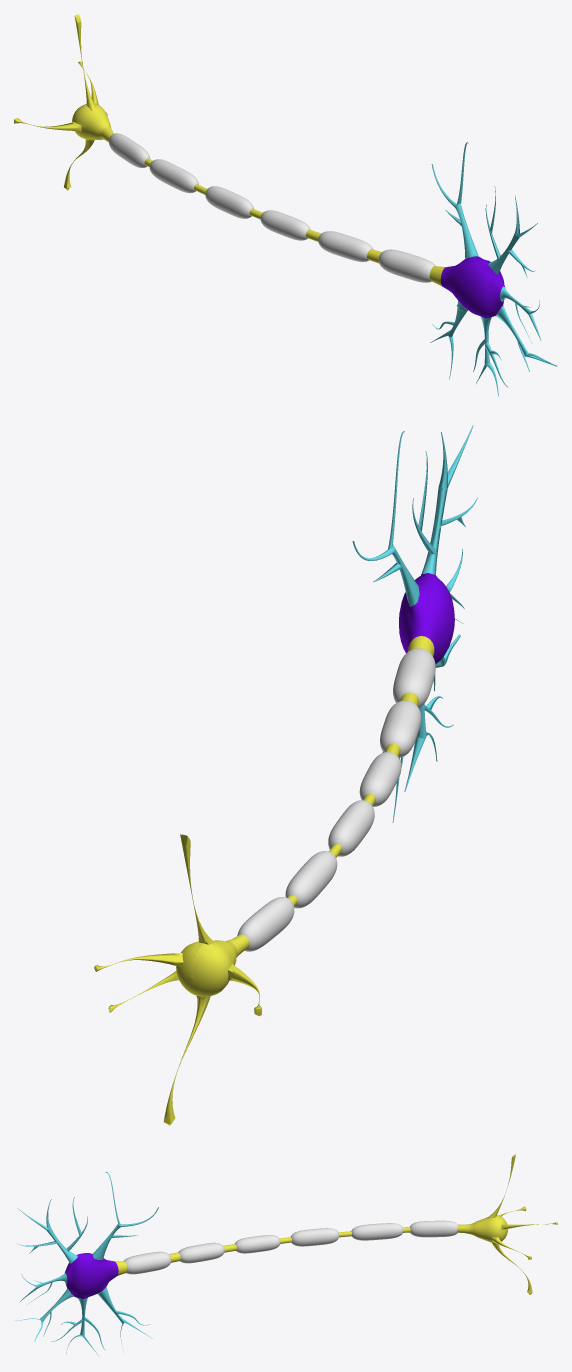
File: Neuron.glb
3 renders of one model, top to bottom at view 1: azimuth 30°, elevation 25°; view 2: azimuth 150°, elevation 25°; view 3: azimuth 270°, elevation 25°, orthographic. The views are drawn at different scales.
Visible parts, largest first — view 1: Myelin, Dendrite, Axon, Soma; view 2: Myelin, Axon, Dendrite, Soma; view 3: Myelin, Dendrite, Axon, Soma.
Part boxes in pixels (x1,y1,x2,y2): Myelin: (108, 133, 435, 282); Dendrite: (430, 142, 557, 396); Axon: (14, 14, 556, 366); Soma: (440, 256, 504, 318); Myelin: (237, 648, 435, 951); Axon: (94, 541, 434, 1125); Dendrite: (352, 425, 477, 822); Soma: (399, 573, 454, 664); Myelin: (123, 1220, 458, 1274); Dendrite: (15, 1172, 158, 1356); Axon: (17, 1154, 557, 1294); Soma: (65, 1253, 118, 1298).
Bounding box in the file's own units: 149 × 155 × 408.
